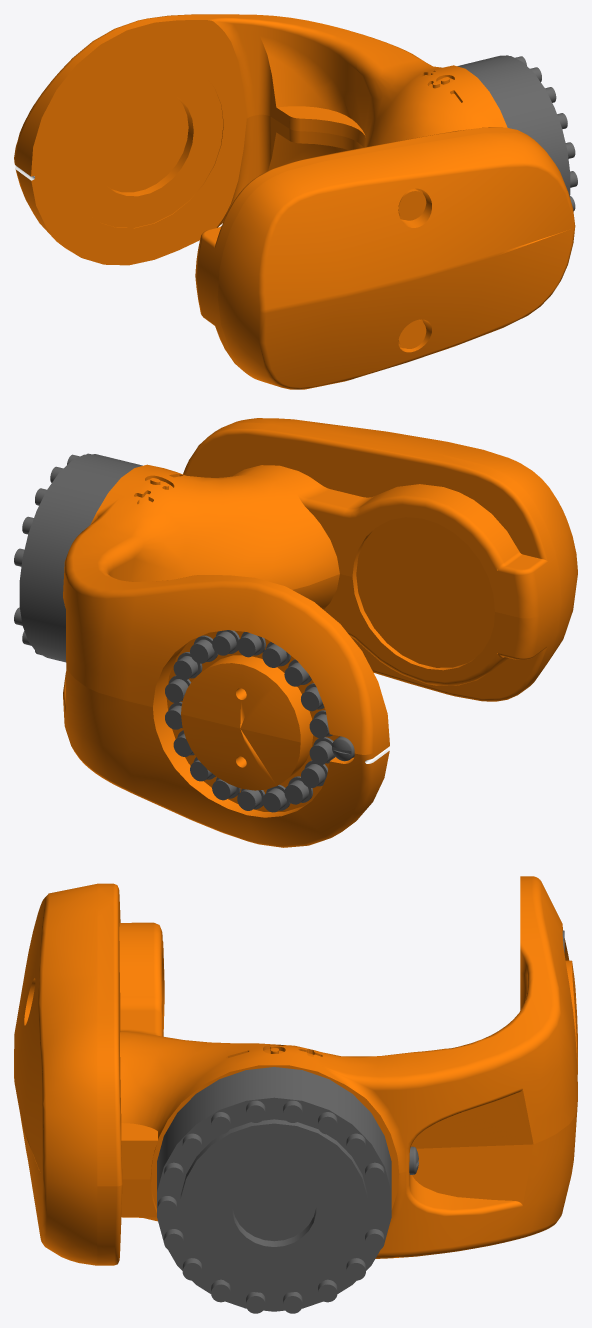
The picture shows the model from 3 angles, top to bottom: view 1: azimuth 30°, elevation 25°; view 2: azimuth 150°, elevation 25°; view 3: azimuth 270°, elevation 25°; orthographic projection. The views are drawn at different scales.
Visible parts, largest first — view 1: link_5; view 2: link_5; view 3: link_5.
Boxes of the visible parts, x1,y1,x2,y2 form: link_5: (14, 14, 577, 389); link_5: (14, 418, 577, 847); link_5: (14, 876, 577, 1313).
Size of the model in its own units: 0.202 by 0.2006 by 0.115.
